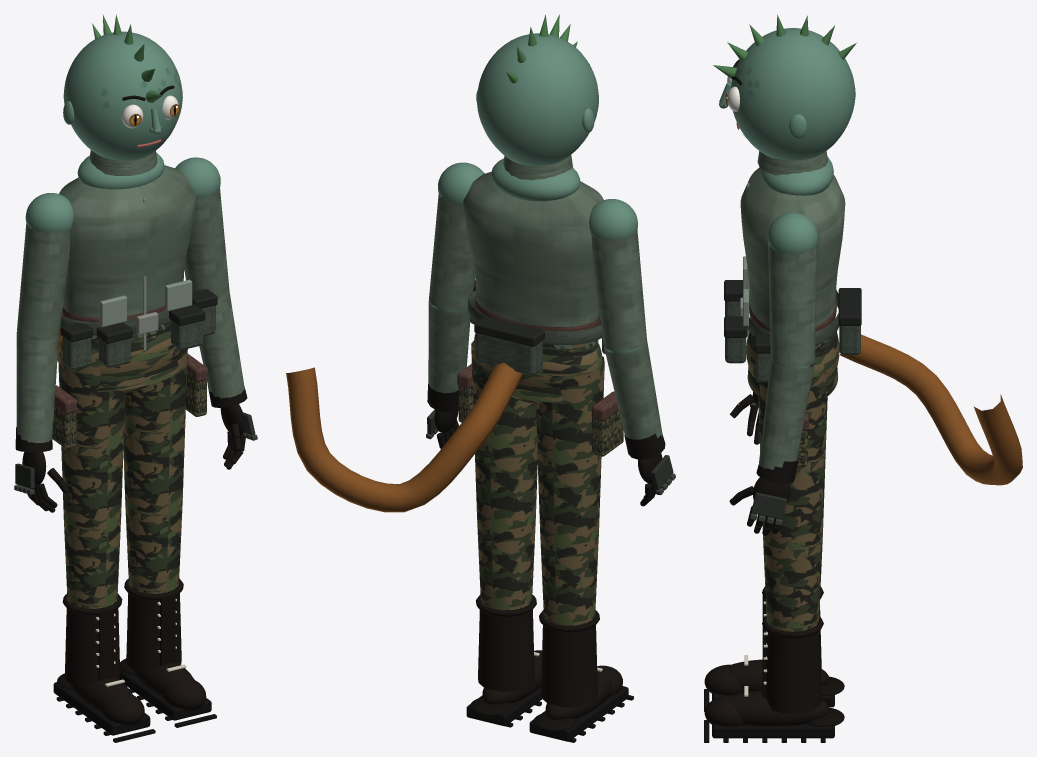
Rendered from 12-mutant-reptilien.glb.
3 renders of one model, left to right at view 1: azimuth 30°, elevation 25°; view 2: azimuth 150°, elevation 25°; view 3: azimuth 270°, elevation 25°, orthographic. The views are drawn at different scales.
Bounding box in the file's own units: 0.7281 × 1.8 × 0.7392.
30 materials, 6 textured.
